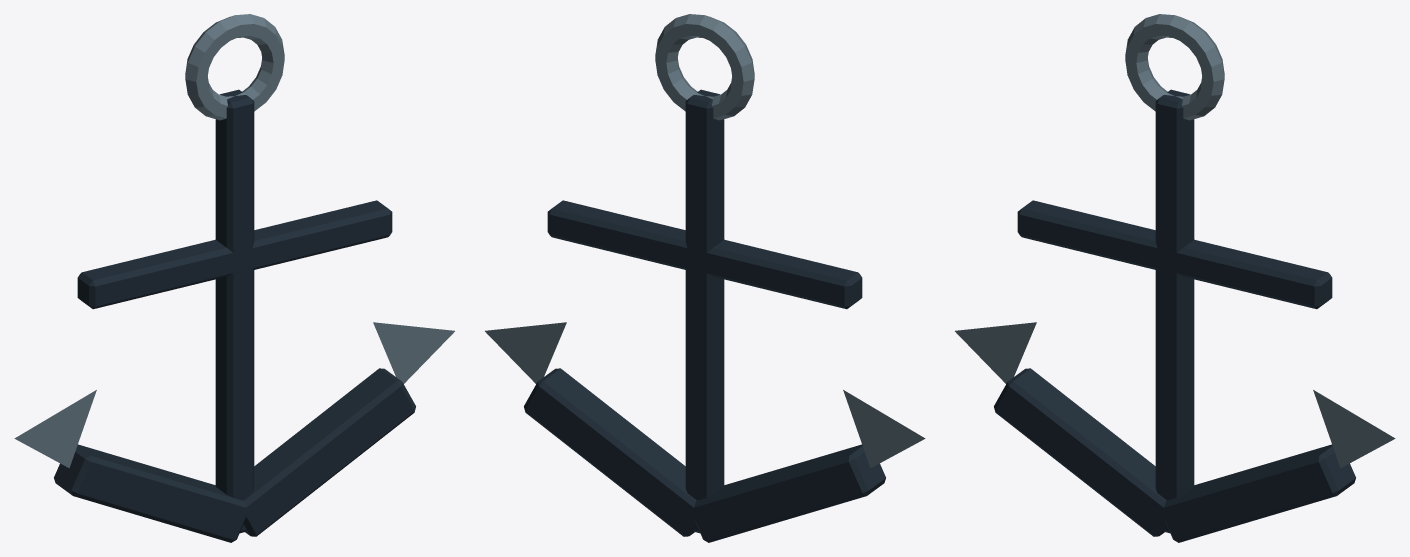
File: equipment-anchor.lod0.glb
The picture shows the model from 3 angles, left to right: view 1: azimuth 30°, elevation 25°; view 2: azimuth 150°, elevation 25°; view 3: azimuth 330°, elevation 25°; orthographic projection.
Parts seen in each view (by area): view 1: equipment-anchor__body; view 2: equipment-anchor__body; view 3: equipment-anchor__body.
Boxes of the visible parts, x1,y1,x2,y2 form: equipment-anchor__body: (14,14,454,542); equipment-anchor__body: (485,14,925,542); equipment-anchor__body: (955,14,1395,542).
Size of the model in its own units: 1.6 by 1.8 by 0.14.
